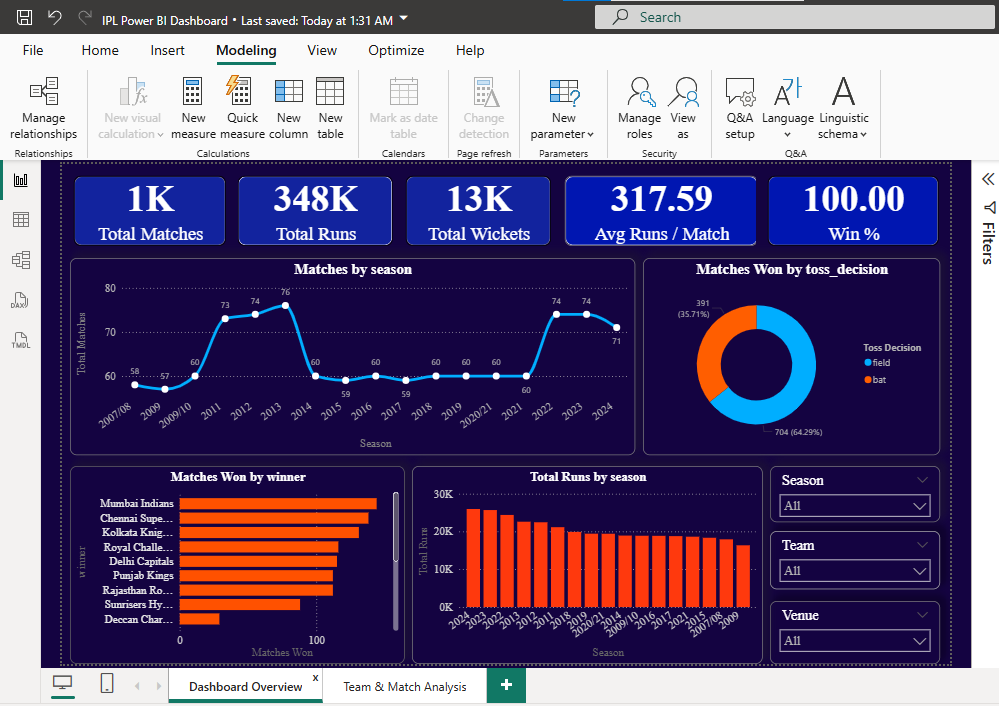

The page's visual inventory and layout, read from the dashboard file:
{"tool":"powerbi","page":{"name":"Dashboard Overview","canvas":[1280,720],"ordinal":0},"visuals":[{"type":"cardVisual","fields":{"Data":["deliveries.Total Wickets"]},"box":[478.1,0,243.4,135.4],"z":0},{"type":"cardVisual","fields":{"Data":["matches.Avg Runs per Match"]},"box":[707,0,312.5,135.4],"z":1000},{"type":"cardVisual","fields":{"Data":["matches.Win %"]},"box":[999.4,0,280.8,135.4],"z":2000},{"type":"cardVisual","fields":{"Data":["deliveries.Total Runs"]},"box":[236.2,0,257.8,135.4],"z":3000},{"type":"cardVisual","fields":{"Data":["matches.Total Matches"]},"box":[0,0,253.4,135.4],"z":4000},{"type":"lineChart","title":"Matches by season","fields":{"Category":["matches.season"],"Y":["matches.Total Matches"]},"box":[11.5,135.4,813.6,283.7],"z":5000},{"type":"clusteredBarChart","fields":{"Y":["matches.Matches Won"],"Category":["matches.winner"]},"box":[11.5,434.9,482.4,285.1],"z":6000},{"type":"donutChart","fields":{"Category":["matches.toss_decision"],"Y":["matches.Matches Won"]},"box":[836.6,135.4,427.7,283.7],"z":7000},{"type":"slicer","fields":{"Values":["matches.season"]},"box":[1019.5,434.9,244.8,80.6],"z":8000},{"type":"slicer","fields":{"Values":["matches.winner"]},"box":[1019.5,528.5,244.8,83.5],"z":9000},{"type":"slicer","fields":{"Values":["matches.venue"]},"box":[1019.5,629.3,244.8,90.7],"z":10000},{"type":"columnChart","fields":{"Category":["matches.season"],"Y":["deliveries.Total Runs"]},"box":[504,434.9,505.4,285.1],"z":11000}]}

Visuals, with their boxes on the page's 1280x720 design canvas (x1, y1, x2, y2). These are canvas units, not pixel positions in the 999x706 screenshot, which may show the page scaled, cropped or inside an application window:
cardVisual - deliveries.Total Wickets: bbox=[478, 0, 722, 135]
cardVisual - matches.Avg Runs per Match: bbox=[707, 0, 1020, 135]
cardVisual - matches.Win %: bbox=[999, 0, 1280, 135]
cardVisual - deliveries.Total Runs: bbox=[236, 0, 494, 135]
cardVisual - matches.Total Matches: bbox=[0, 0, 253, 135]
"Matches by season" lineChart: bbox=[12, 135, 825, 419]
clusteredBarChart - matches.Matches Won x matches.winner: bbox=[12, 435, 494, 720]
donutChart - matches.toss_decision x matches.Matches Won: bbox=[837, 135, 1264, 419]
slicer - matches.season: bbox=[1020, 435, 1264, 516]
slicer - matches.winner: bbox=[1020, 528, 1264, 612]
slicer - matches.venue: bbox=[1020, 629, 1264, 720]
columnChart - matches.season x deliveries.Total Runs: bbox=[504, 435, 1009, 720]
